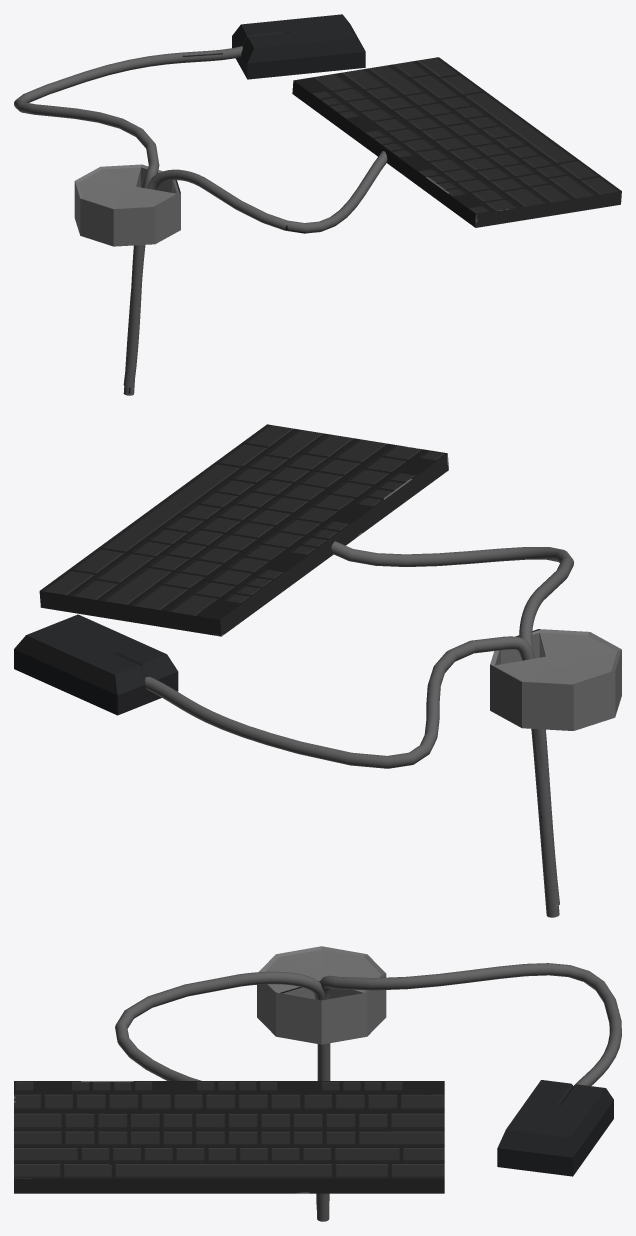
Rendered from Mouse Teclado.fbx.
3 views of the same model, one above another, from view 1: azimuth 30°, elevation 25°; view 2: azimuth 150°, elevation 25°; view 3: azimuth 270°, elevation 25° (orthographic). The views are drawn at different scales.
Visible parts, largest first — view 1: teclado raton; view 2: teclado raton; view 3: teclado raton.
Part boxes in pixels (<box>): teclado raton: <box>14,14,621,395</box>; teclado raton: <box>14,424,621,917</box>; teclado raton: <box>14,946,621,1221</box>.
Bounding box in the file's own units: 178 × 95.15 × 194.
